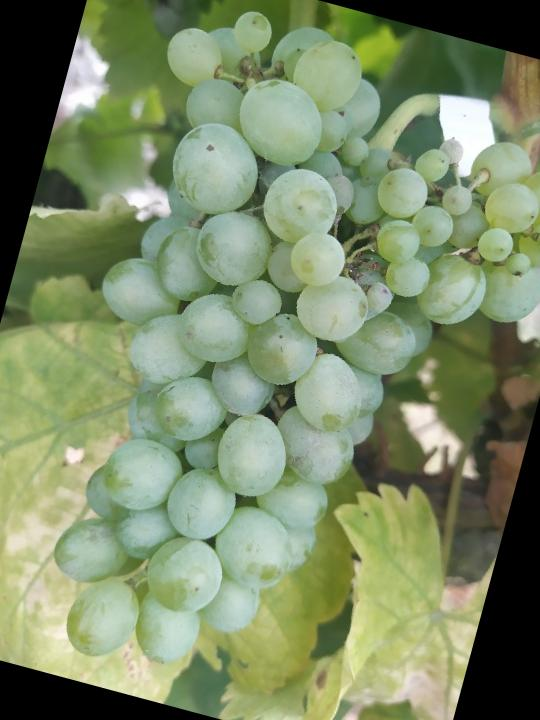grape: (5, 0, 540, 720)
